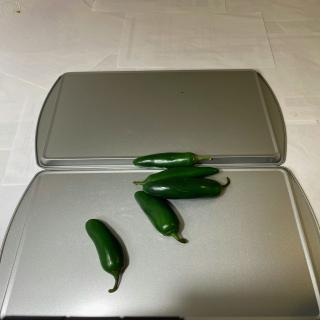Chilli: (85, 218, 126, 293)
Tomato: (134, 190, 188, 243), (142, 176, 231, 200), (133, 166, 220, 185), (132, 152, 213, 169)
